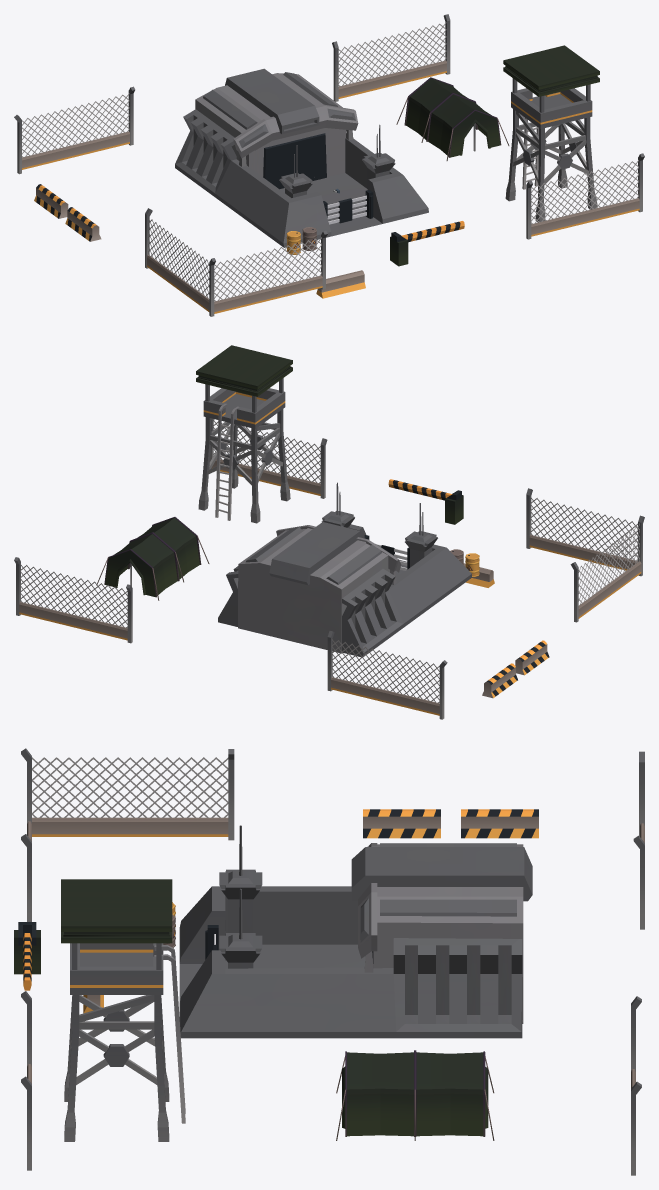
3 views of the same model, one above another, from view 1: azimuth 30°, elevation 25°; view 2: azimuth 150°, elevation 25°; view 3: azimuth 270°, elevation 25° (orthographic). The views are drawn at different scales.
Parts seen in each view (by area): view 1: house_gate, Military_Tent, Military_Tower_Main_Structure, Military_Tower_Roof, Military_Tower_Walking_Platform, Military_Fence_Thin.006, Military_Fence_Thin.003, Military_Fence_Thin.014, Military_Fence_Thin.001, Military_Fence_Thin.002, Military_Fence_Thin.016, Military_Fence_Thin.007 (+19 smaller); view 2: house_gate, Military_Tent, Military_Tower_Main_Structure, Military_Tower_Roof, Military_Tower_Walking_Platform, Military_Tower_Ladder, Military_Fence_Thin.006, Military_Fence_Thin.014, Military_Fence_Thin.016, Military_Fence_Thin.015, Military_Fence_Thin.005, Military_Fence_Thin.017 (+17 smaller); view 3: house_gate, Military_Tent, Military_Tower_Roof, Military_Tower_Main_Structure, Military_Tower_Walking_Platform, Military_Roadblock_Stripes.001, Military_Roadblock_Stripes.002, Military_Fence_Thin.012, Military_Fence_Thin.011, Military_Fence_Thin.009, Military_Fence_Thin.010, Military_Tower_Roof_Slim (+3 smaller).
Part boxes in pixels (x1,y1,x2,y2): house_gate: (175, 68, 428, 247); Military_Tent: (396, 77, 509, 160); Military_Tower_Main_Structure: (505, 109, 597, 222); Military_Tower_Roof: (503, 45, 599, 112); Military_Tower_Walking_Platform: (511, 88, 592, 128); Military_Fence_Thin.006: (267, 243, 295, 300); Military_Fence_Thin.003: (557, 173, 585, 229); Military_Fence_Thin.014: (365, 35, 392, 92); Military_Fence_Thin.001: (612, 160, 639, 216); Military_Fence_Thin.002: (584, 166, 612, 223); Military_Fence_Thin.016: (419, 22, 446, 79); Military_Fence_Thin.007: (240, 250, 268, 307); house_gate: (218, 482, 472, 657); Military_Tent: (96, 517, 209, 600); Military_Tower_Main_Structure: (198, 409, 290, 523); Military_Tower_Roof: (196, 345, 292, 411); Military_Tower_Walking_Platform: (203, 388, 285, 428); Military_Tower_Ladder: (215, 403, 239, 520); Military_Fence_Thin.006: (556, 503, 584, 560); Military_Fence_Thin.014: (73, 577, 101, 633); Military_Fence_Thin.016: (19, 563, 47, 620); Military_Fence_Thin.015: (46, 570, 74, 627); Military_Fence_Thin.005: (529, 496, 557, 553); Military_Fence_Thin.017: (331, 638, 358, 695); house_gate: (179, 825, 532, 1038); Military_Tent: (336, 1050, 494, 1140); Military_Tower_Roof: (61, 879, 172, 969); Military_Tower_Main_Structure: (64, 995, 169, 1141); Military_Tower_Walking_Platform: (70, 943, 163, 994); Military_Roadblock_Stripes.001: (461, 809, 538, 838); Military_Roadblock_Stripes.002: (363, 809, 440, 838); Military_Fence_Thin.012: (32, 757, 81, 836); Military_Fence_Thin.011: (81, 757, 130, 836); Military_Fence_Thin.009: (179, 757, 228, 836); Military_Fence_Thin.010: (130, 757, 179, 836); Military_Tower_Roof_Slim: (61, 932, 172, 969).
Bounding box in the file's own units: 31.05 × 11.1 × 24.27.
Materials: 3 (1 with a texture image).
